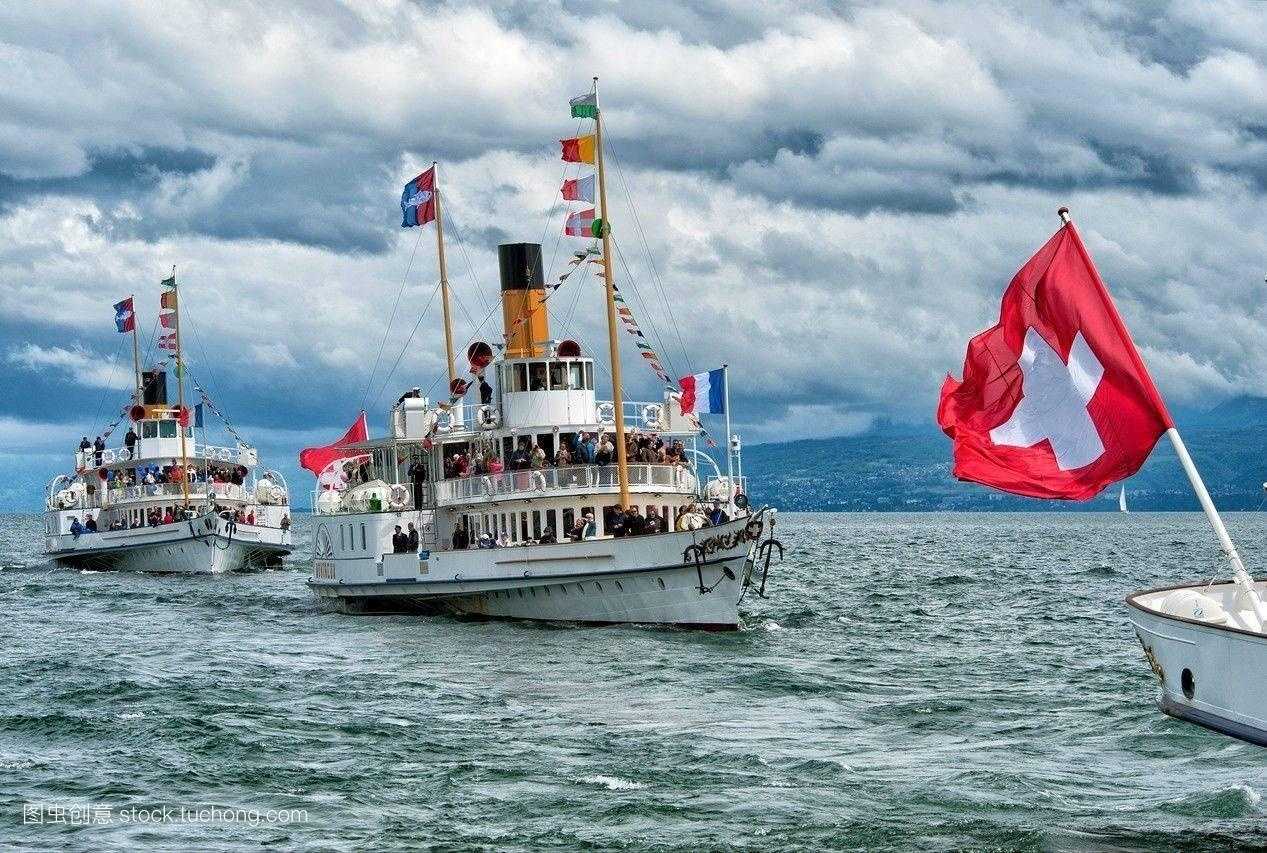otherboat: (306, 223, 775, 638), (39, 368, 273, 593)
